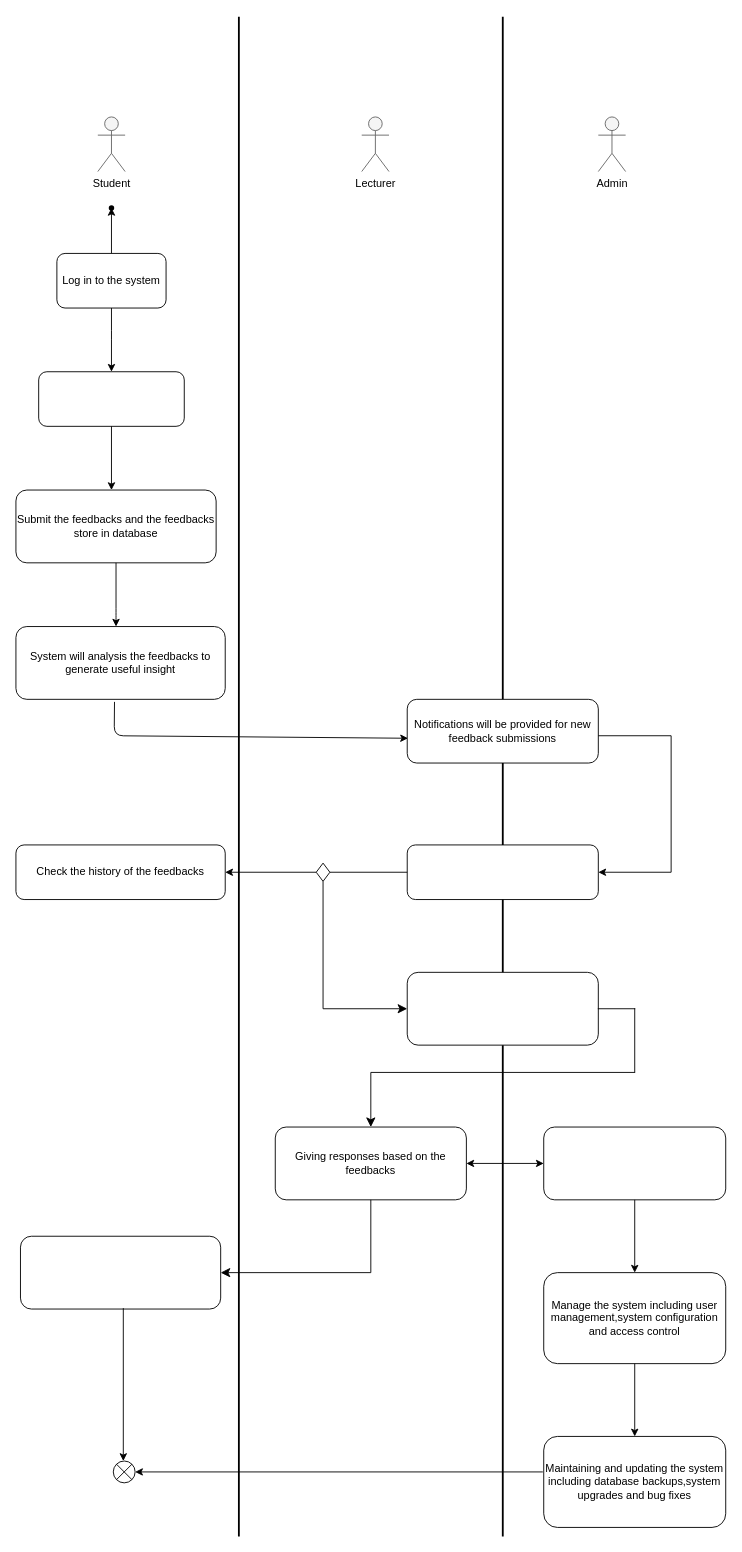
The diagram is 742 pixels wide and 1552 high, and some of its shapes have lost their labels. Here are the shapes that lost their labels. From the top down, the centre of each, then its label:
At (111,398): "Choose the courses to provide feedbacks".
At (502,872): "Access and view the feedbacks".
At (502,1008): "Generate report to sumarize feedbacks'data".
At (634,1163): "Addressing issues raised and initiating changes".
At (120,1272): "Notifications will be provided for new responses".
